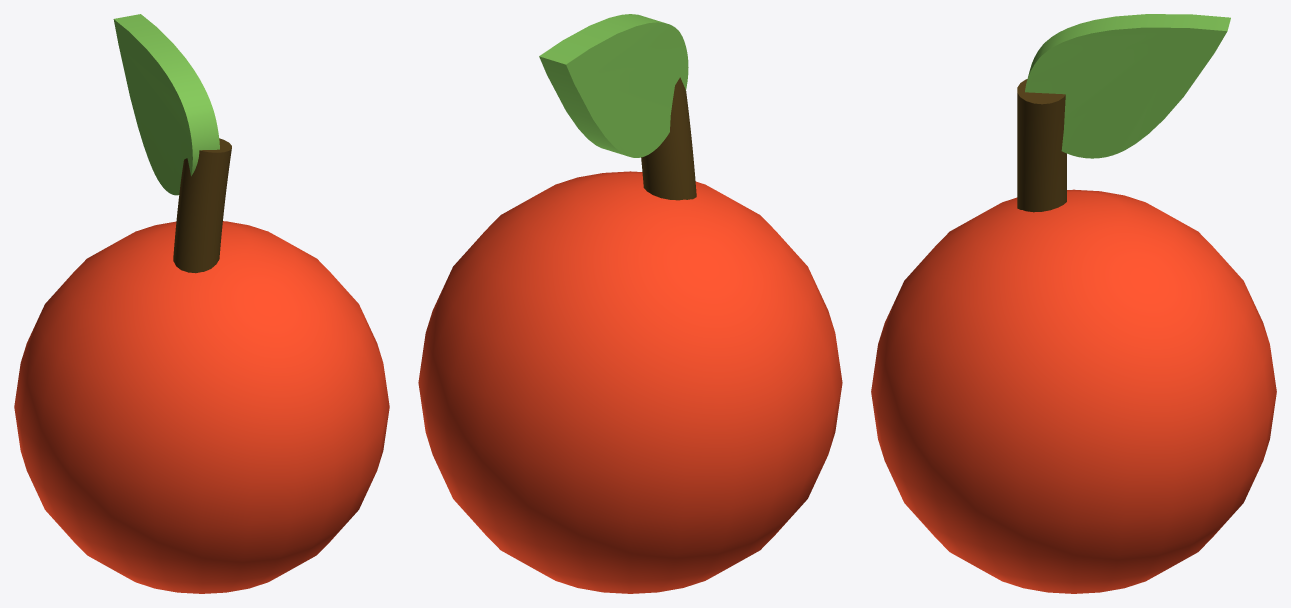
File: apple.fbx
3 renders of one model, left to right at view 1: azimuth 30°, elevation 25°; view 2: azimuth 150°, elevation 25°; view 3: azimuth 270°, elevation 25°, orthographic. The views are drawn at different scales.
Visible parts, largest first — view 1: Sphere, Cap_2, Torus, Extrude_1; view 2: Sphere, Cap_2, Extrude_1, Torus; view 3: Sphere, Cap_1, Torus, Extrude_1.
Part boxes in pixels (box(x1,y1,x2,y2)): Sphere: box(14, 221, 389, 593); Cap_2: box(113, 19, 192, 195); Torus: box(173, 138, 231, 273); Extrude_1: box(114, 14, 219, 176); Sphere: box(418, 171, 842, 593); Cap_2: box(566, 22, 688, 157); Extrude_1: box(539, 14, 664, 156); Torus: box(641, 77, 696, 200); Sphere: box(871, 189, 1276, 593); Cap_1: box(1025, 27, 1227, 158); Torus: box(1017, 79, 1066, 212); Extrude_1: box(1028, 14, 1230, 76).
Size of the model in its own units: 22.36 by 33.54 by 22.36.
